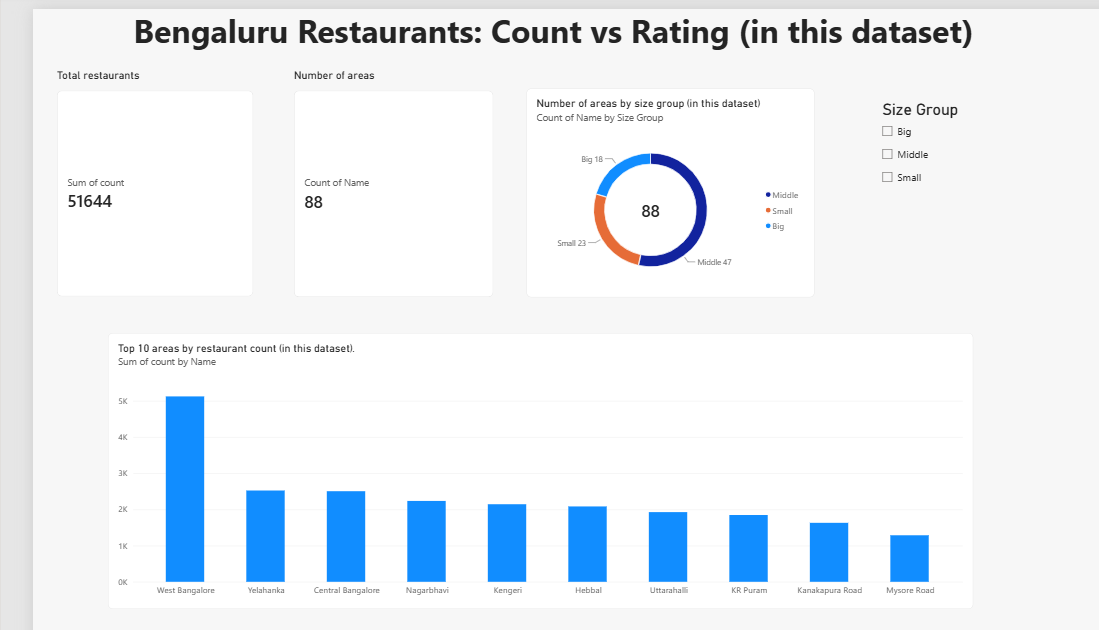

What the dashboard file says about the page in this screenshot:
{"tool":"powerbi","page":{"name":"Page 1","canvas":[1920,1080],"ordinal":0},"visuals":[{"type":"clusteredColumnChart","title":"Top 10 areas by restaurant count (in this dataset).","fields":{"Category":["zomato_locations.Name"],"Y":["Sum(zomato_locations.count)"]},"box":[125,540,1442,460],"z":0},{"type":"cardVisual","title":"Total restaurants","fields":{"Data":["Sum(zomato_locations.count)"]},"box":[40,100,327.9,379.3],"z":1000},{"type":"cardVisual","title":"Number of areas","fields":{"Data":["Count(zomato_locations.Name)"]},"box":[435,100,332,380],"z":2000},{"type":"donutChart","title":"Number of areas by size group (in this dataset)","fields":{"Category":["zomato_locations.Size Group"],"Y":["Count(zomato_locations.Name)"]},"box":[822.5,132.5,480,348],"z":3000},{"type":"slicer","fields":{"Values":["zomato_locations.Size Group"]},"box":[1407.5,152.5,322,328],"z":4000},{"type":"textbox","box":[167.5,0,1752.5,72.5],"z":4001}]}

Visuals, with their boxes in screenshot pixels (x1, y1, x2, y2), scaled from the page's 1920x1080 canvas onto the 1099x630 screenshot:
"Top 10 areas by restaurant count (in this dataset)." clusteredColumnChart: <box>72,315,897,583</box>
"Total restaurants" cardVisual: <box>23,58,211,280</box>
"Number of areas" cardVisual: <box>249,58,439,280</box>
"Number of areas by size group (in this dataset)" donutChart: <box>471,77,746,280</box>
slicer - zomato_locations.Size Group: <box>806,89,990,280</box>
textbox: <box>96,0,1098,42</box>
